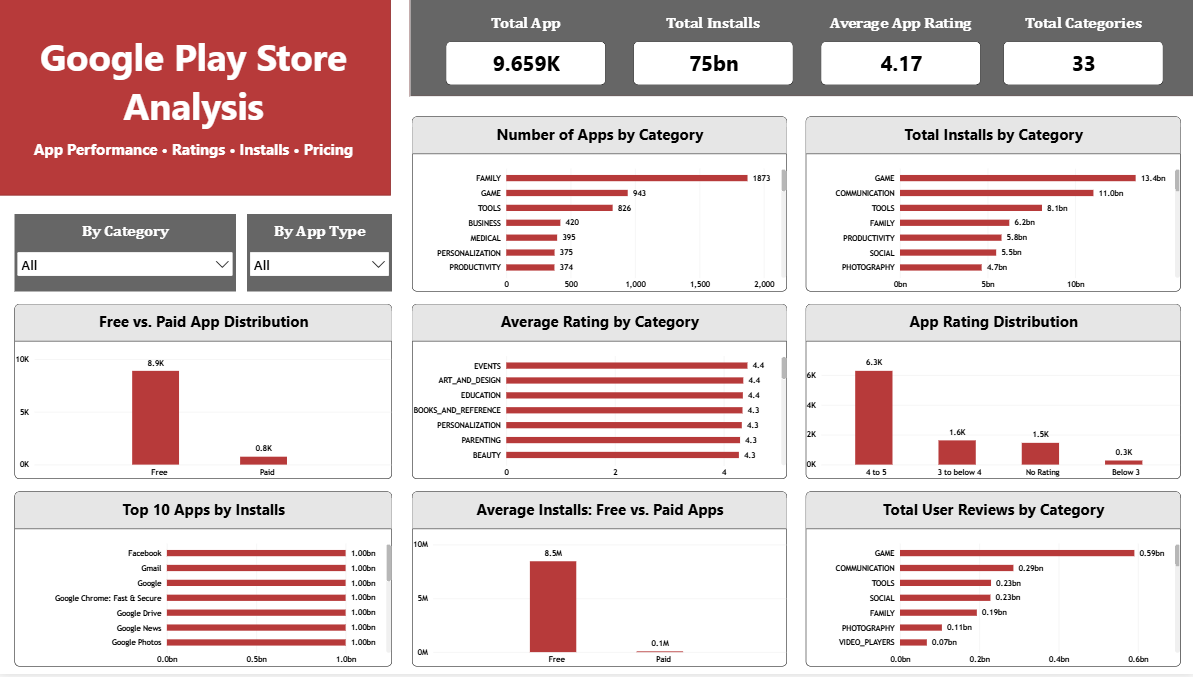

The page's visual inventory and layout, read from the dashboard file:
{"tool":"powerbi","page":{"name":"Page 1","canvas":[1920,1080],"ordinal":0},"visuals":[{"type":"shape","box":[0,0,630,314.3],"z":2000},{"type":"shape","box":[660,0,1260,156],"z":3000},{"type":"cardVisual","title":"Total App","fields":{"Data":["CountNonNull(google_playstore_cleaned.App)"]},"box":[718.4,12.8,256,126],"z":4000},{"type":"cardVisual","title":"Total Categories","fields":{"Data":["Count(google_playstore_cleaned.Category)"]},"box":[1610.4,12.8,256,126],"z":5000},{"type":"cardVisual","title":"Average App Rating","fields":{"Data":["Avg(google_playstore_cleaned.Rating)"]},"box":[1318.4,12.8,256,126],"z":6000},{"type":"cardVisual","title":"Total Installs","fields":{"Data":["Sum(google_playstore_cleaned.Installs)"]},"box":[1018.4,12.8,256,126],"z":7000},{"type":"clusteredBarChart","title":"Number of Apps by Category","fields":{"Category":["google_playstore_cleaned.Category"],"Y":["Count(google_playstore_cleaned.App)"]},"box":[664,187.5,600,280],"z":8000},{"type":"clusteredBarChart","title":"Total Installs by Category","fields":{"Category":["google_playstore_cleaned.Category"],"Y":["Sum(google_playstore_cleaned.Installs)"]},"box":[1294,187.5,600,280],"z":9000},{"type":"clusteredBarChart","title":"Average Rating by Category","fields":{"Category":["google_playstore_cleaned.Category"],"Y":["Avg(google_playstore_cleaned.Rating)"]},"box":[664,488,600,280],"z":10000},{"type":"clusteredColumnChart","title":"Free vs. Paid App Distribution","fields":{"Category":["google_playstore_cleaned.Type"],"Y":["Count(google_playstore_cleaned.App)"]},"box":[28,488,604,280],"z":11000},{"type":"clusteredColumnChart","title":"App Rating Distribution","fields":{"Category":["google_playstore_cleaned.Rating Group"],"Y":["Count(google_playstore_cleaned.App)"]},"box":[1294,487.5,600,280],"z":12000},{"type":"clusteredBarChart","title":"Top 10 Apps by Installs","fields":{"Category":["google_playstore_cleaned.App"],"Y":["Max(google_playstore_cleaned.Installs)"]},"box":[28,788,604,280],"z":13000},{"type":"clusteredBarChart","title":"Total User Reviews by Category","fields":{"Category":["google_playstore_cleaned.Category"],"Y":["Sum(google_playstore_cleaned.Reviews)"]},"box":[1294,787.5,600,280],"z":14000},{"type":"clusteredColumnChart","title":"Average Installs: Free vs. Paid Apps","fields":{"Category":["google_playstore_cleaned.Type"],"Y":["Avg(google_playstore_cleaned.Installs)"]},"box":[664,787.5,600,280],"z":15000},{"type":"slicer","title":"By Category","fields":{"Values":["google_playstore_cleaned.Category"]},"box":[28,344,354,124],"z":16000},{"type":"slicer","title":"By App Type","fields":{"Values":["google_playstore_cleaned.Type"]},"box":[400,344,232,124],"z":17000},{"type":"textbox","box":[30,51.4,568.6,242.9],"z":18000}]}

Visuals, with their boxes in screenshot pixels (x1, y1, x2, y2), scaled from the page's 1920x1080 canvas onto the 1193x677 screenshot:
shape: crop(0, 0, 391, 197)
shape: crop(410, 0, 1192, 98)
"Total App" cardVisual: crop(446, 8, 605, 87)
"Total Categories" cardVisual: crop(1001, 8, 1160, 87)
"Average App Rating" cardVisual: crop(819, 8, 978, 87)
"Total Installs" cardVisual: crop(633, 8, 792, 87)
"Number of Apps by Category" clusteredBarChart: crop(413, 118, 785, 293)
"Total Installs by Category" clusteredBarChart: crop(804, 118, 1177, 293)
"Average Rating by Category" clusteredBarChart: crop(413, 306, 785, 481)
"Free vs. Paid App Distribution" clusteredColumnChart: crop(17, 306, 393, 481)
"App Rating Distribution" clusteredColumnChart: crop(804, 306, 1177, 481)
"Top 10 Apps by Installs" clusteredBarChart: crop(17, 494, 393, 669)
"Total User Reviews by Category" clusteredBarChart: crop(804, 494, 1177, 669)
"Average Installs: Free vs. Paid Apps" clusteredColumnChart: crop(413, 494, 785, 669)
"By Category" slicer: crop(17, 216, 237, 293)
"By App Type" slicer: crop(249, 216, 393, 293)
textbox: crop(19, 32, 372, 184)
